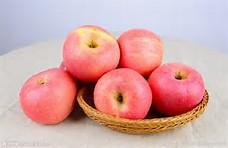apple: (10, 68, 75, 124), (61, 18, 123, 75), (89, 71, 151, 117), (151, 60, 206, 111)
